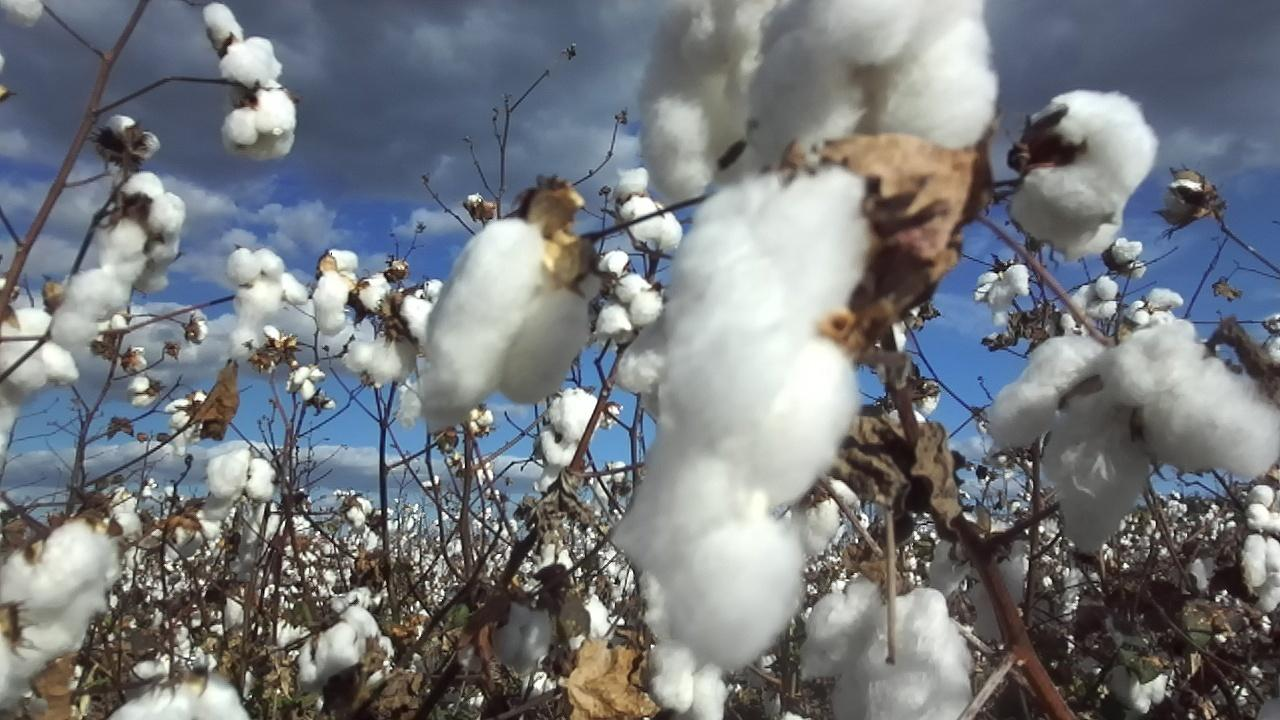cotton_ready: (619, 170, 870, 668), (749, 0, 997, 159), (987, 337, 1146, 550), (421, 217, 589, 413), (639, 0, 784, 207), (1102, 322, 1280, 478), (1012, 90, 1159, 259), (0, 520, 117, 708), (840, 590, 972, 720), (0, 304, 79, 453), (928, 530, 1025, 640), (492, 590, 614, 670), (297, 604, 399, 698), (105, 172, 185, 289), (50, 254, 145, 350), (802, 578, 885, 679), (230, 249, 309, 354), (772, 480, 859, 562), (614, 322, 680, 423), (201, 2, 280, 84), (219, 80, 299, 160), (649, 640, 728, 720), (595, 248, 661, 337), (107, 680, 252, 720), (203, 449, 275, 525), (360, 274, 444, 338), (315, 249, 357, 337), (623, 195, 685, 254), (543, 390, 605, 445), (1247, 504, 1280, 606), (347, 334, 414, 382), (105, 118, 160, 164), (537, 430, 576, 472)
